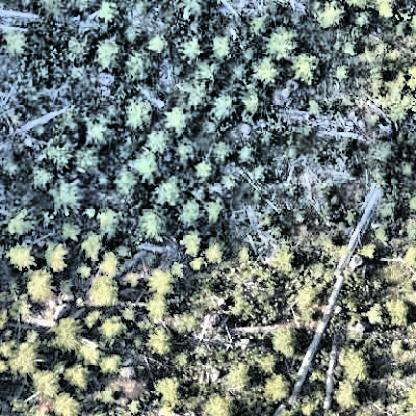tree-top: (4, 333, 51, 378), (257, 28, 299, 74), (337, 343, 376, 385), (85, 272, 123, 311), (135, 206, 175, 242), (21, 268, 59, 305), (330, 375, 367, 412), (72, 139, 108, 177), (134, 153, 172, 189), (123, 93, 158, 131), (50, 174, 86, 210), (266, 22, 303, 57), (293, 51, 329, 86), (55, 314, 90, 350), (5, 201, 38, 239), (27, 365, 63, 399), (94, 36, 128, 71), (152, 172, 187, 206), (83, 115, 118, 149), (116, 165, 145, 206), (40, 239, 73, 275), (153, 371, 186, 405), (146, 265, 180, 298), (76, 336, 109, 370), (274, 326, 307, 359), (63, 359, 95, 392), (222, 361, 252, 395), (312, 1, 347, 30), (142, 291, 173, 323), (147, 326, 178, 358), (383, 296, 413, 329), (79, 230, 108, 264), (201, 390, 238, 416), (263, 372, 294, 403), (211, 90, 241, 122), (56, 107, 88, 137), (177, 198, 208, 228), (165, 102, 196, 132), (145, 126, 176, 156), (7, 240, 39, 269), (201, 193, 230, 225), (253, 56, 283, 86), (178, 31, 208, 61), (47, 139, 76, 170), (251, 346, 280, 376), (209, 30, 236, 61), (241, 86, 269, 115), (4, 30, 33, 57), (181, 229, 207, 258), (93, 1, 122, 27), (193, 158, 220, 184), (97, 250, 122, 278), (177, 137, 201, 166), (51, 394, 82, 416), (213, 138, 239, 164), (98, 315, 124, 340), (149, 31, 174, 57), (203, 238, 227, 264), (359, 239, 381, 260), (377, 1, 402, 19)
